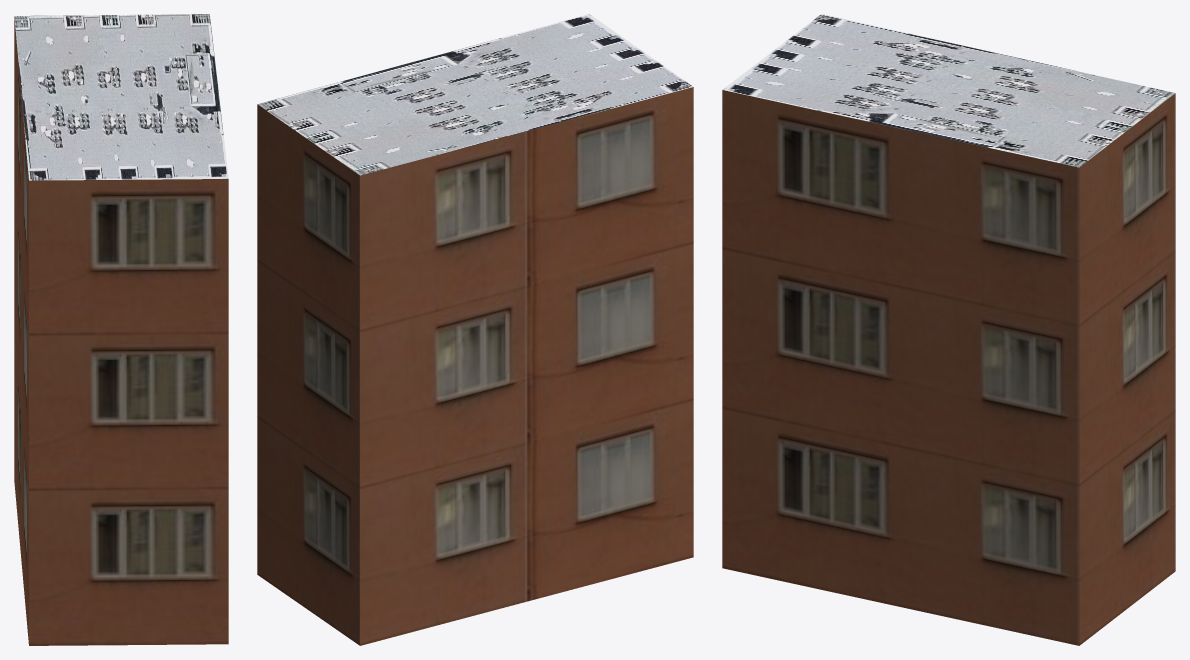
Rendered from ResTex__3378.fbx.
3 renders of one model, left to right at view 1: azimuth 30°, elevation 25°; view 2: azimuth 150°, elevation 25°; view 3: azimuth 270°, elevation 25°, orthographic. The views are drawn at different scales.
Parts seen in each view (by area): view 1: CityEngineMaterial_20_m, CityEngineMaterial_4_m; view 2: CityEngineMaterial_20_m, CityEngineMaterial_4_m; view 3: CityEngineMaterial_20_m, CityEngineMaterial_4_m.
Part boxes in pixels (x1,y1,x2,y2): CityEngineMaterial_20_m: (14,17,228,645); CityEngineMaterial_4_m: (14,14,228,180); CityEngineMaterial_20_m: (257,87,693,645); CityEngineMaterial_4_m: (257,14,693,175); CityEngineMaterial_20_m: (722,90,1175,645); CityEngineMaterial_4_m: (723,14,1175,167).
Bounding box in the file's own units: 6.2 × 9 × 7.73.
Materials: 2 (2 with a texture image).
